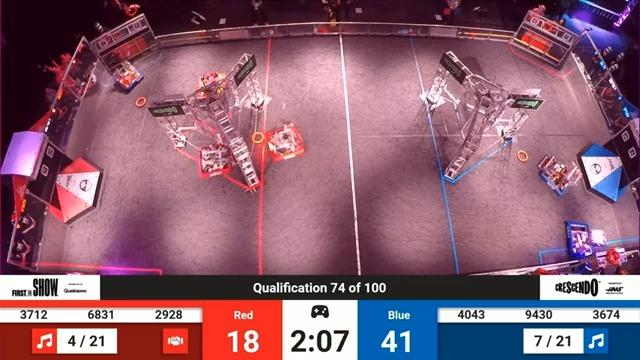robot: (561, 214, 606, 264), (536, 153, 581, 197), (194, 142, 239, 179), (262, 125, 304, 161), (190, 68, 229, 101), (111, 62, 148, 93)
